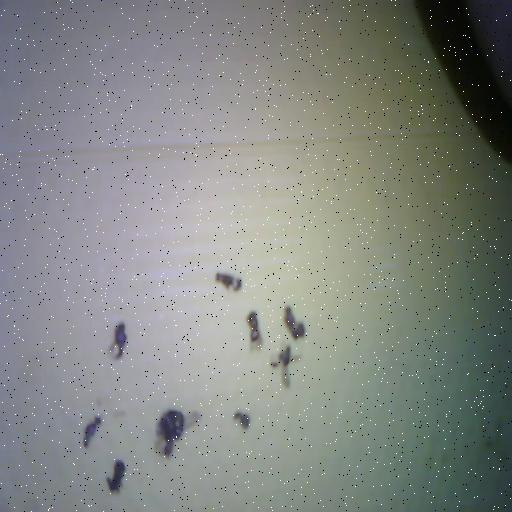Insects: (270, 346, 301, 388), (108, 323, 127, 360), (285, 307, 305, 340), (106, 461, 125, 494), (246, 312, 262, 350), (83, 417, 101, 448), (216, 275, 241, 292)
Insects 2: (154, 410, 200, 459)
dust: (234, 413, 250, 430)
